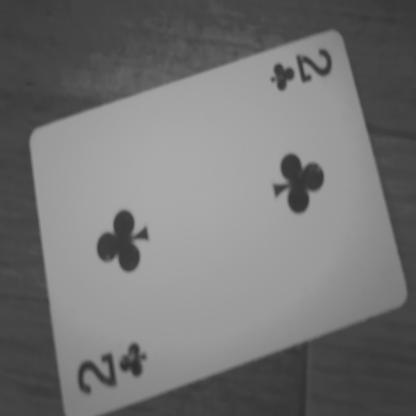2C: (69, 330, 165, 408), (259, 33, 343, 103)
